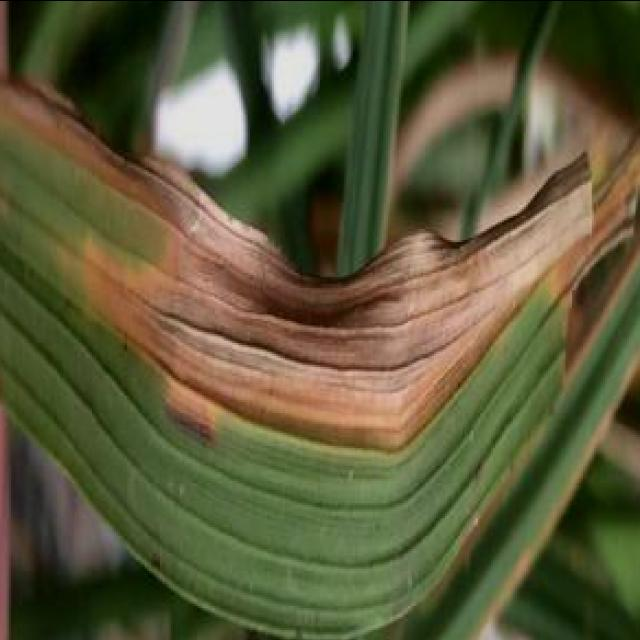Bacterial_Leaf_Blight: (66, 210, 554, 600)
